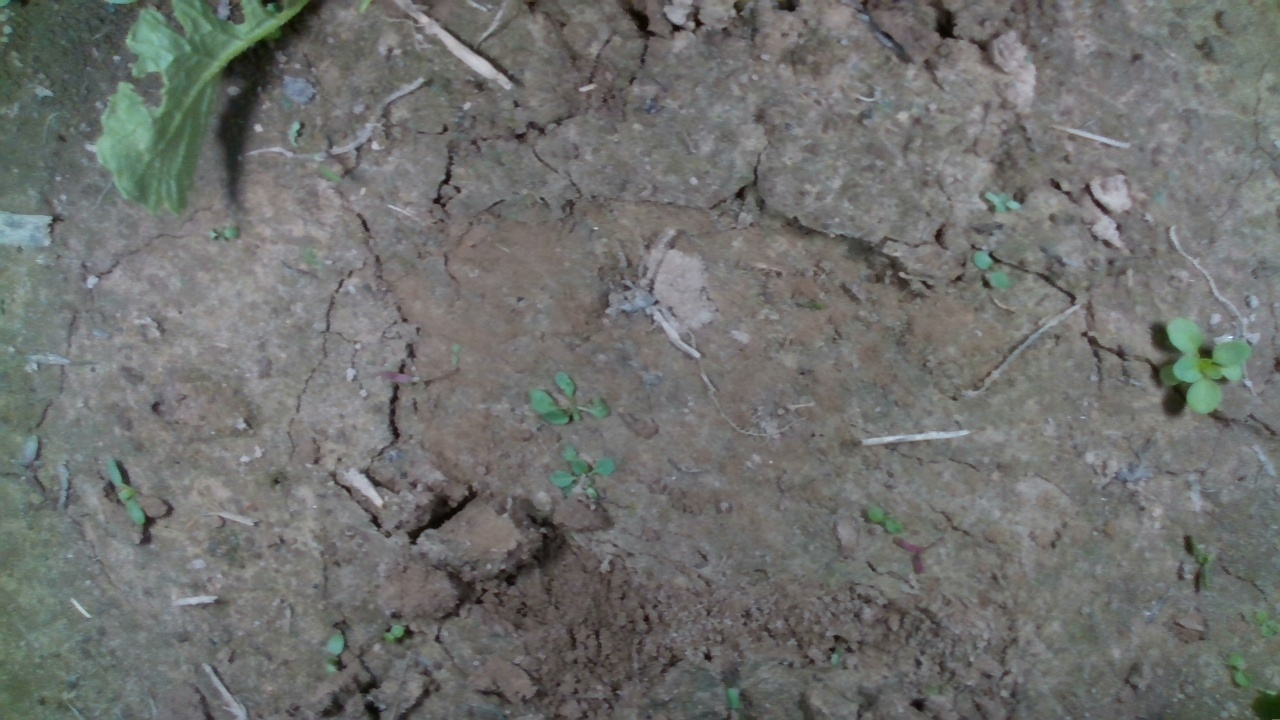weed: (102, 454, 145, 525), (972, 249, 1011, 291), (864, 503, 905, 535), (984, 189, 1021, 216)
